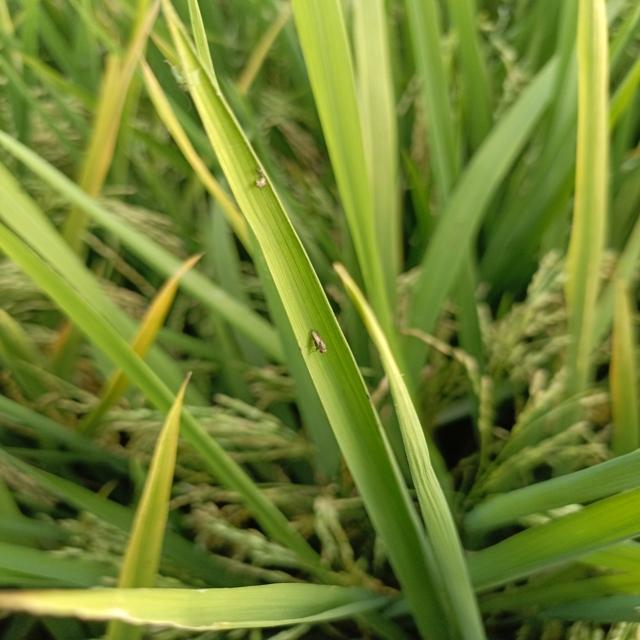Brown spot: (111, 366, 198, 586), (113, 245, 210, 387)
Leaf scald: (302, 322, 330, 360)
